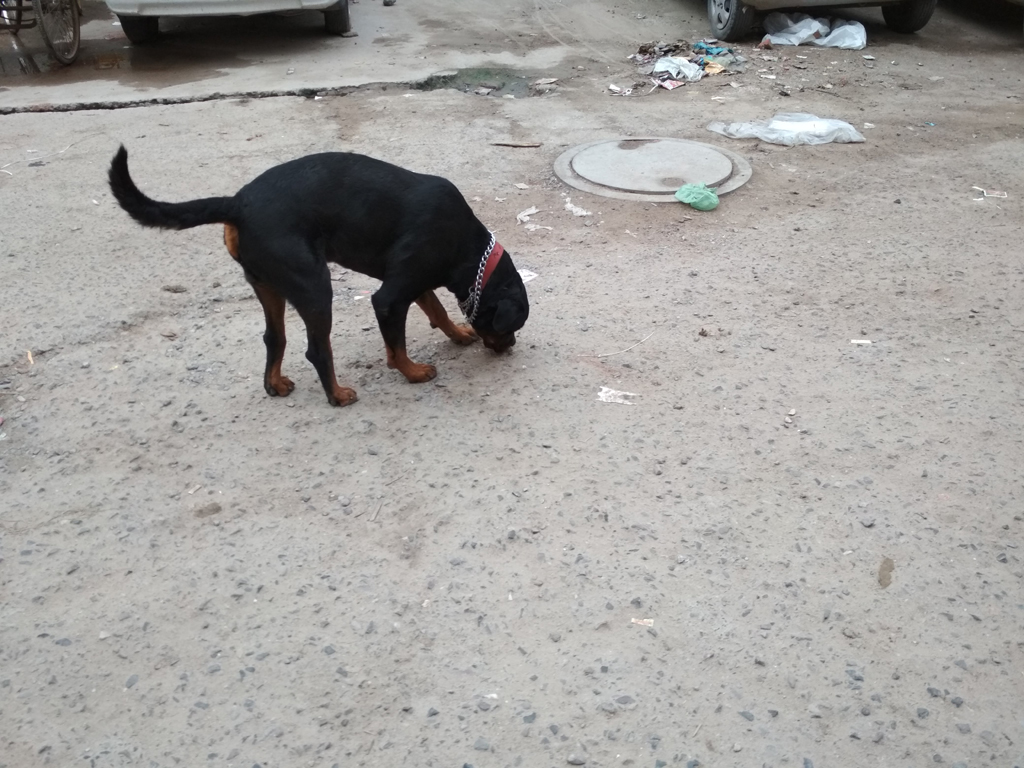dog: (110, 151, 531, 410)
